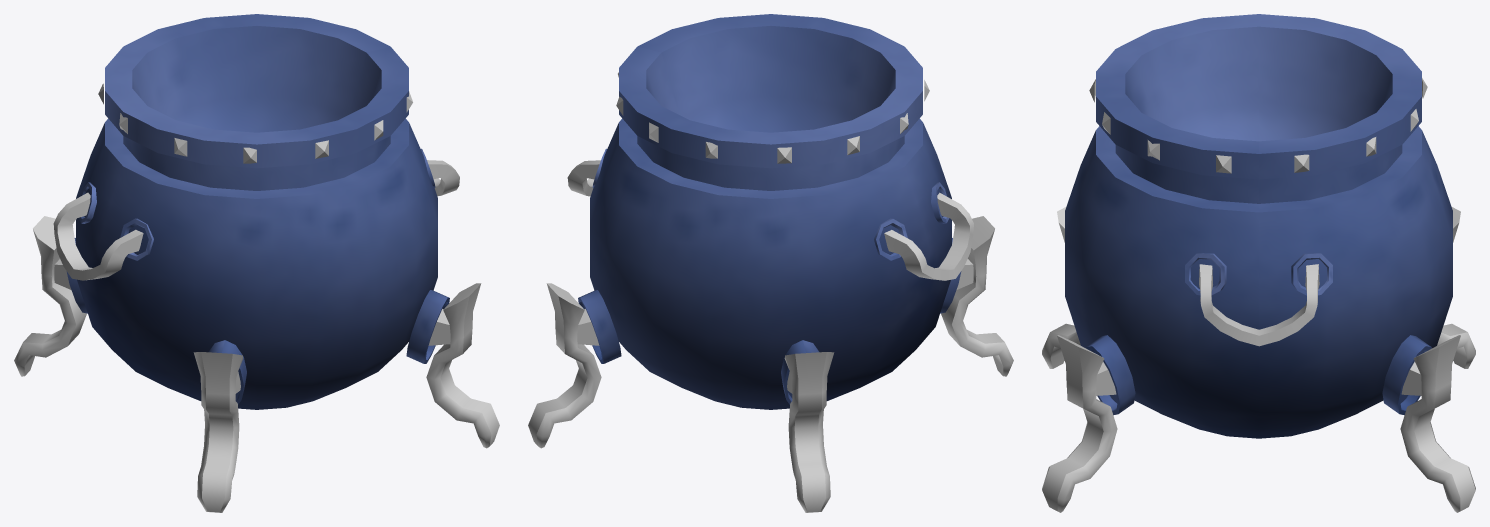
File: Cauldron.fbx
3 renders of one model, left to right at view 1: azimuth 30°, elevation 25°; view 2: azimuth 150°, elevation 25°; view 3: azimuth 270°, elevation 25°, orthographic. The views are drawn at different scales.
Parts seen in each view (by area): view 1: Cauldron; view 2: Cauldron; view 3: Cauldron.
Boxes of the visible parts, x1,y1,x2,y2 form: Cauldron: (14, 14, 499, 512); Cauldron: (528, 14, 1013, 512); Cauldron: (1042, 14, 1475, 512).
Bounding box in the file's own units: 135 × 115 × 128.
